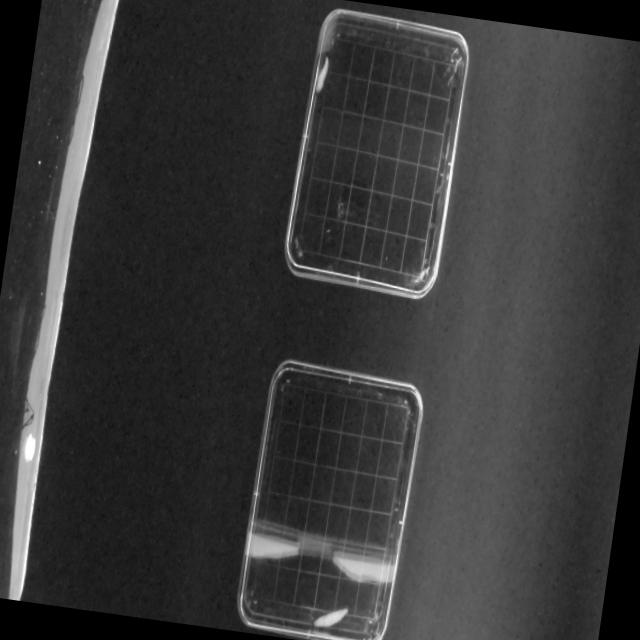larva: (312, 604, 350, 634), (312, 54, 334, 96)
